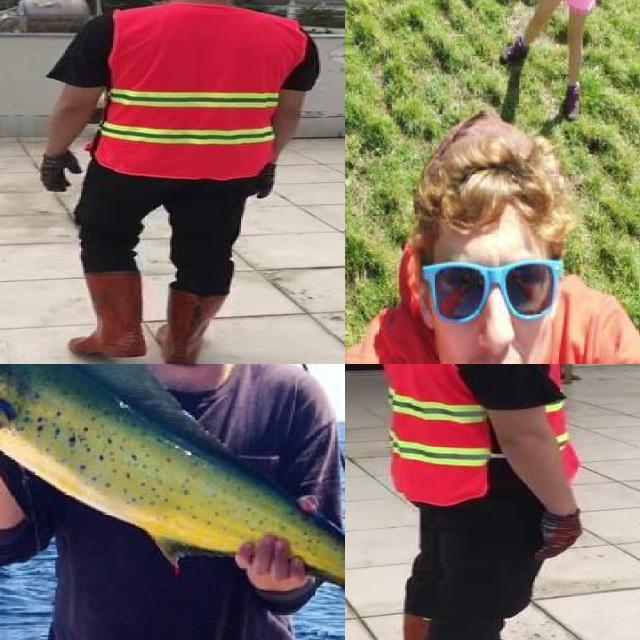boots: (68, 271, 146, 359), (157, 285, 232, 364)
face_nomask: (435, 252, 552, 364)
glasses: (385, 251, 563, 343)
hand_glove: (535, 513, 581, 560), (40, 154, 83, 193), (246, 161, 278, 198)
hand_noglove: (233, 524, 317, 596)
head_nohelmet: (410, 131, 568, 243)
person: (25, 0, 327, 364), (0, 364, 345, 640), (345, 120, 640, 364), (360, 364, 604, 640)
vest: (97, 7, 301, 180), (382, 364, 581, 505)
